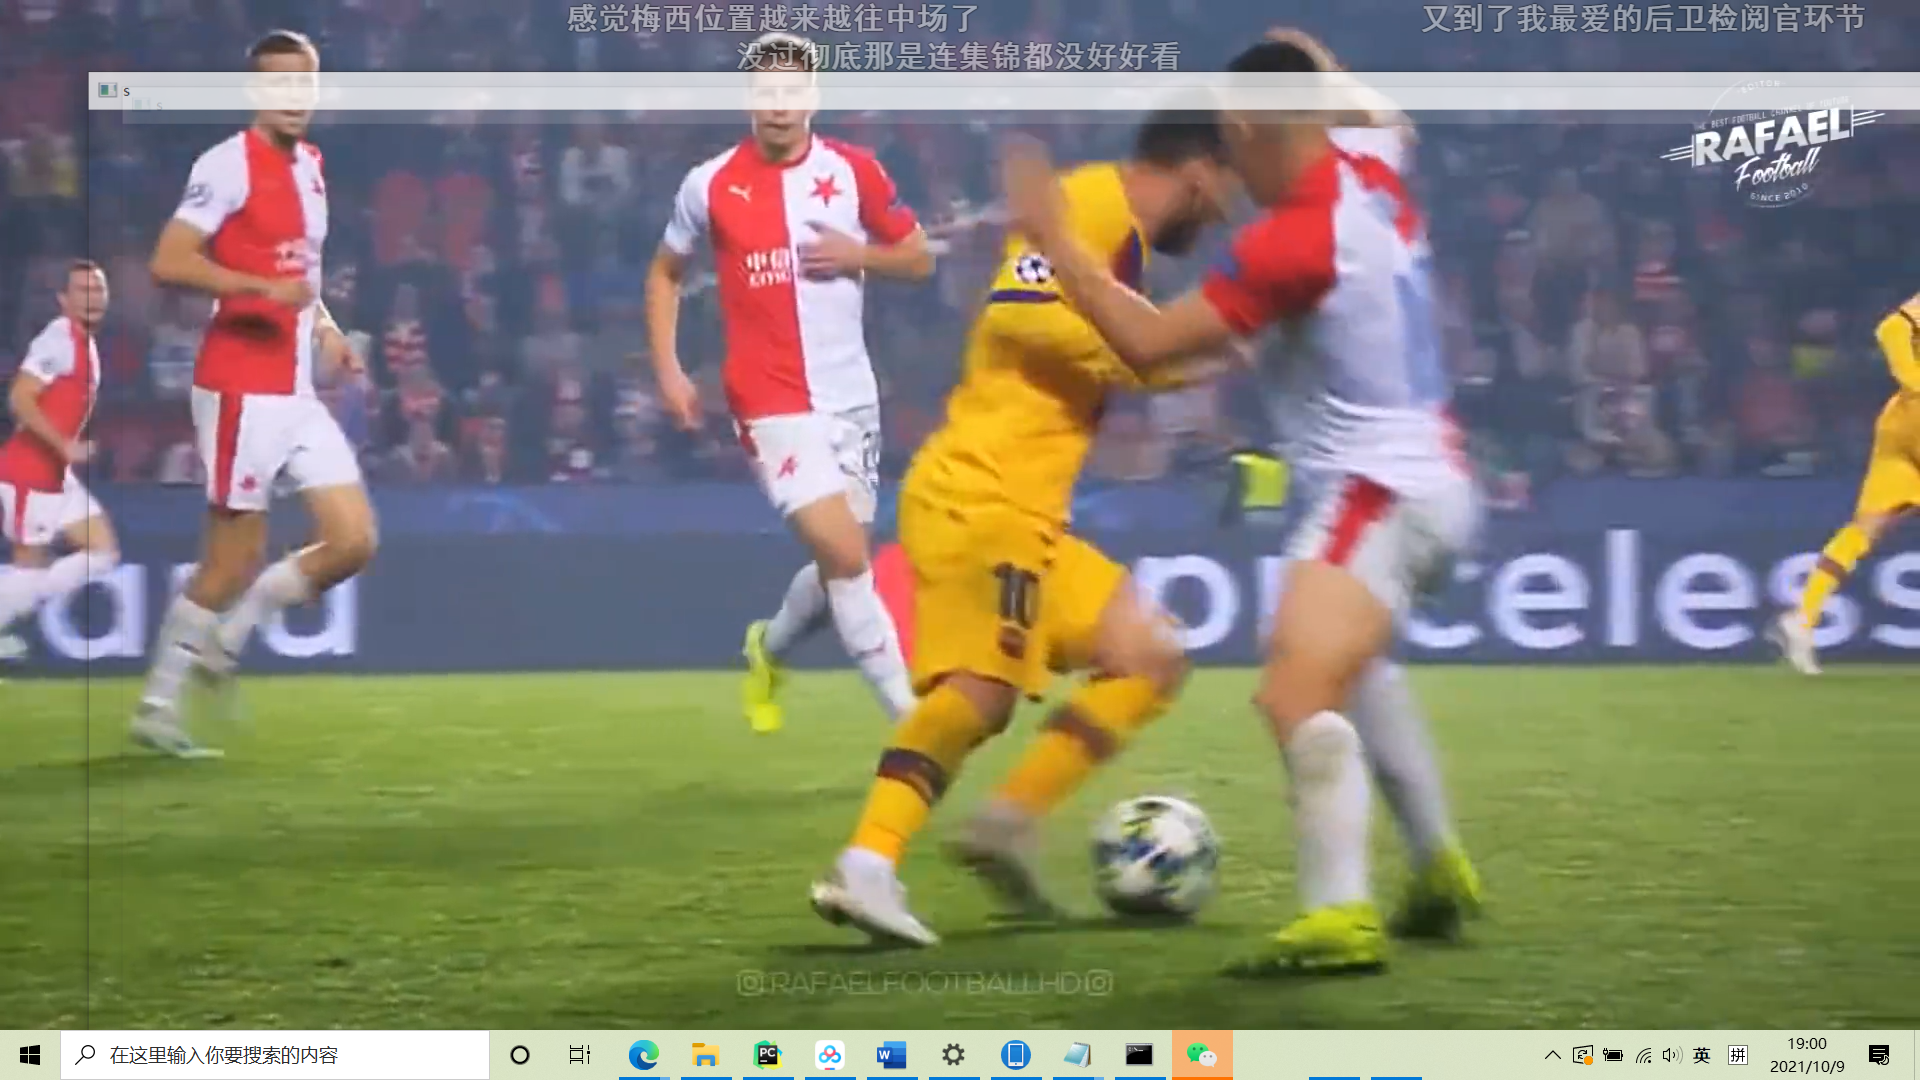ft: (1087, 790, 1221, 924)
